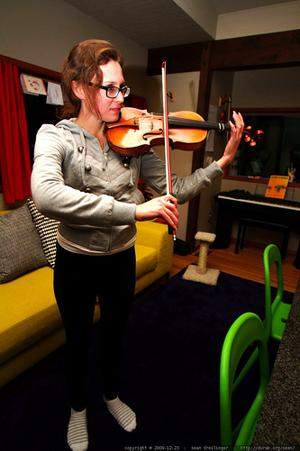person: (32, 35, 246, 451)
